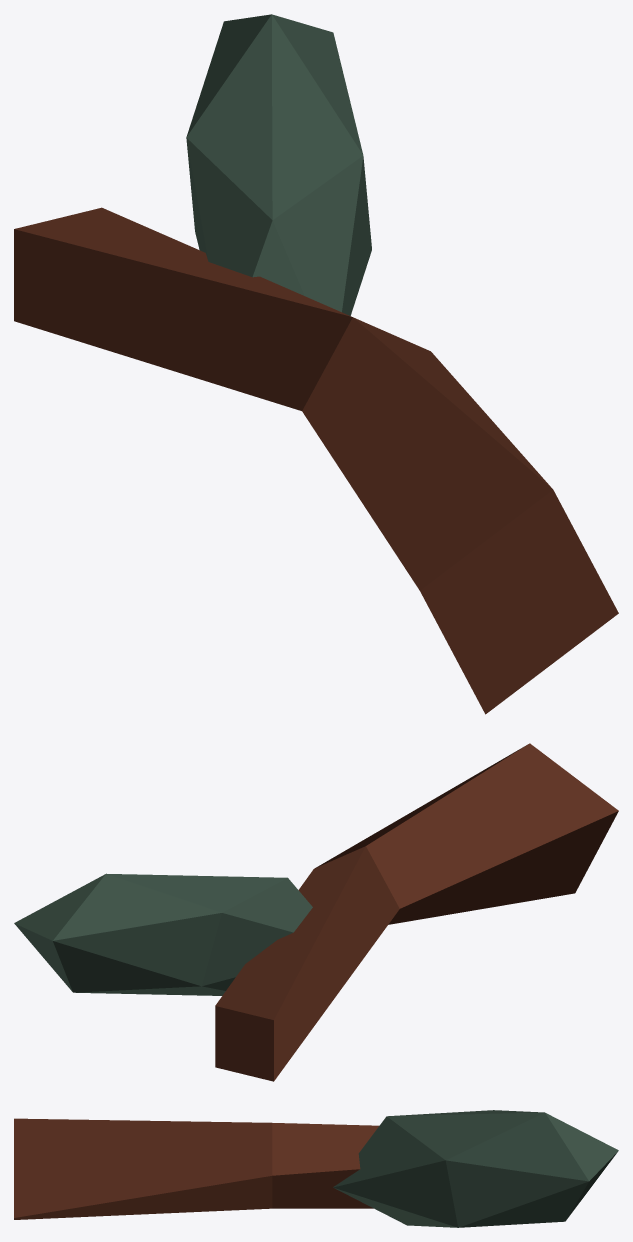
The model's file is twig.glb.
3 views of the same model, one above another, from view 1: azimuth 30°, elevation 25°; view 2: azimuth 150°, elevation 25°; view 3: azimuth 270°, elevation 25° (orthographic). The views are drawn at different scales.
Parts seen in each view (by area): view 1: Twig; view 2: Twig; view 3: Twig.
Boxes of the visible parts, x1,y1,x2,y2 form: Twig: (14,14,618,714); Twig: (14,743,618,1081); Twig: (14,1110,618,1227).
Bounding box in the file's own units: 0.8869 × 0.6308 × 1.96.
